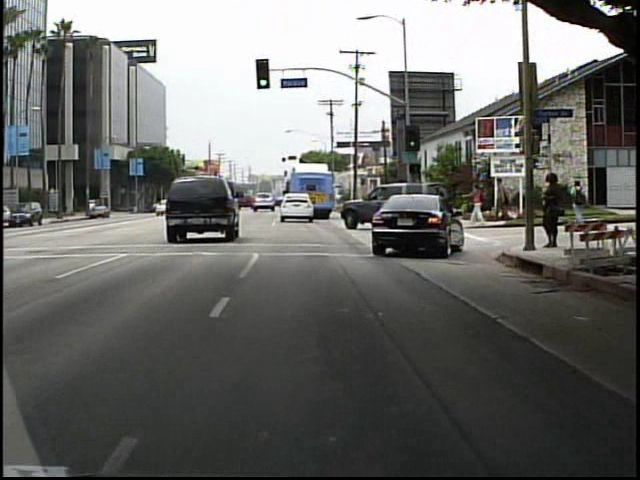person: (537, 169, 562, 254), (465, 178, 491, 228), (567, 176, 589, 224), (492, 177, 510, 223)
